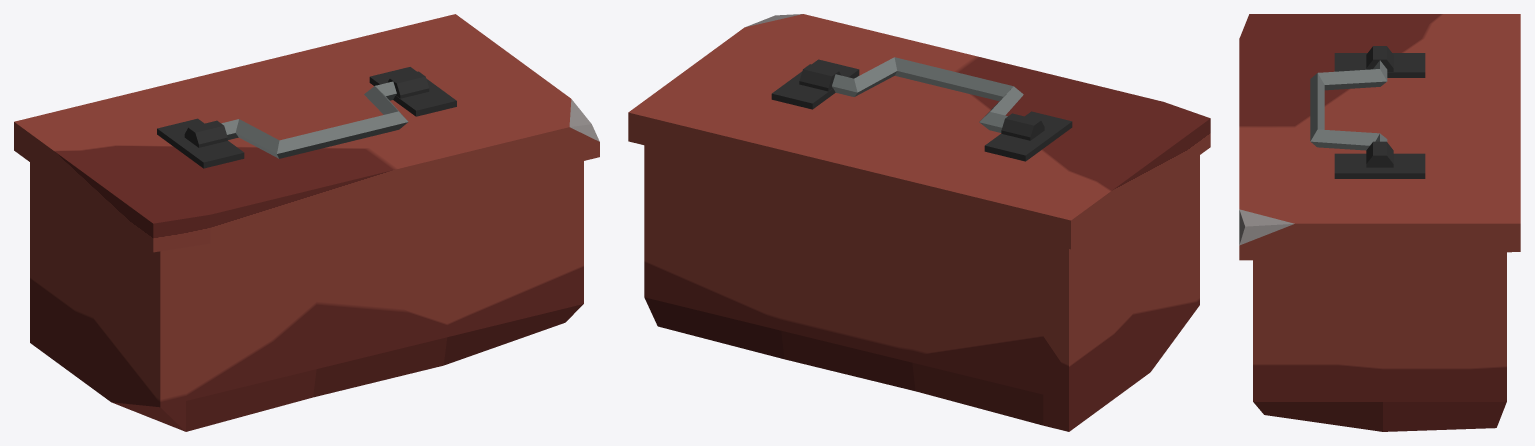
File: SM_Metall_Box.gltf
3 views of the same model, side by side, from view 1: azimuth 30°, elevation 25°; view 2: azimuth 150°, elevation 25°; view 3: azimuth 270°, elevation 25° (orthographic). The views are drawn at different scales.
Visible parts, largest first — view 1: SM_Metall_Box, SM_Metall_Box_Lid, SM_Metall_Box_Handle; view 2: SM_Metall_Box, SM_Metall_Box_Lid, SM_Metall_Box_Handle; view 3: SM_Metall_Box_Lid, SM_Metall_Box, SM_Metall_Box_Handle.
Part boxes in pixels (box(x1,y1,x2,y2)): SM_Metall_Box: box(30, 161, 583, 431); SM_Metall_Box_Lid: box(14, 14, 599, 252); SM_Metall_Box_Handle: box(221, 81, 408, 158); SM_Metall_Box: box(644, 145, 1199, 431); SM_Metall_Box_Lid: box(628, 14, 1210, 249); SM_Metall_Box_Handle: box(832, 57, 1023, 132); SM_Metall_Box_Lid: box(1239, 14, 1520, 260); SM_Metall_Box: box(1253, 252, 1506, 431); SM_Metall_Box_Handle: box(1310, 60, 1387, 150).
Size of the model in its own units: 0.5041 by 0.2583 by 0.2855.
1 material, 1 textured.
